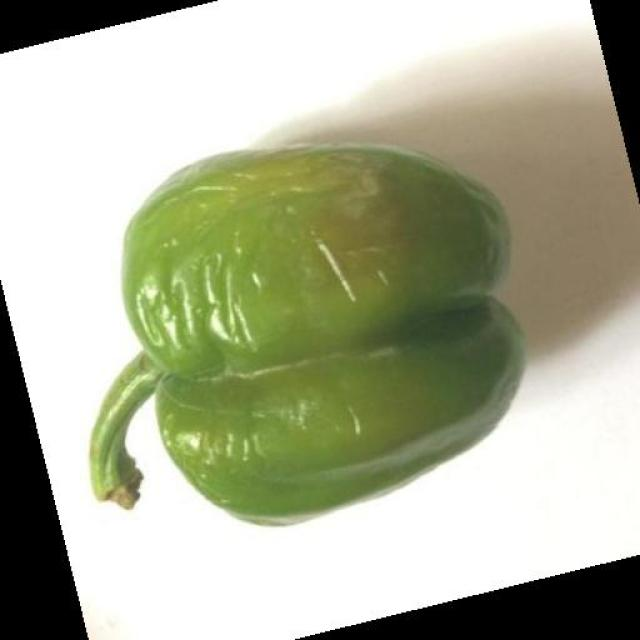Stale_Capsicum: (80, 208, 562, 482)
